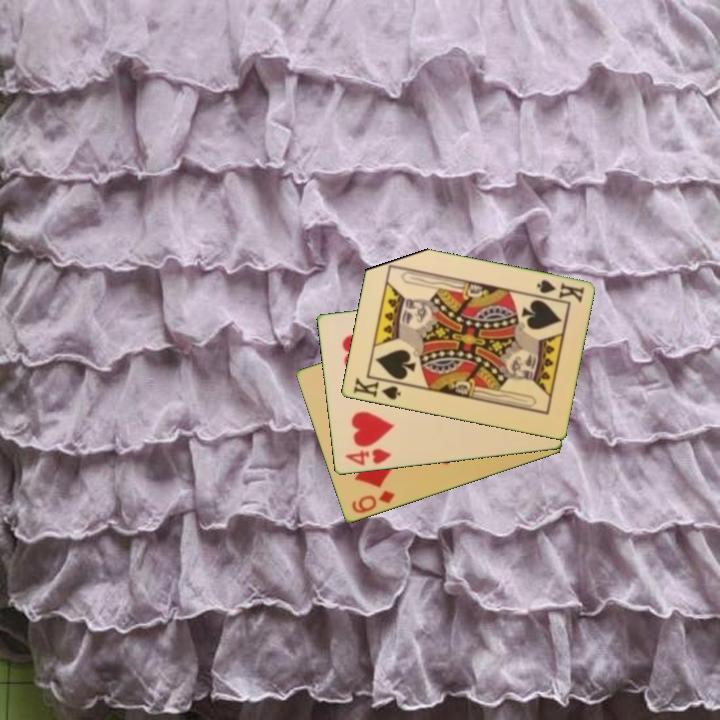4h: (341, 446, 394, 469)
6d: (348, 487, 398, 517)
Ks: (349, 374, 406, 403), (533, 277, 587, 306)
